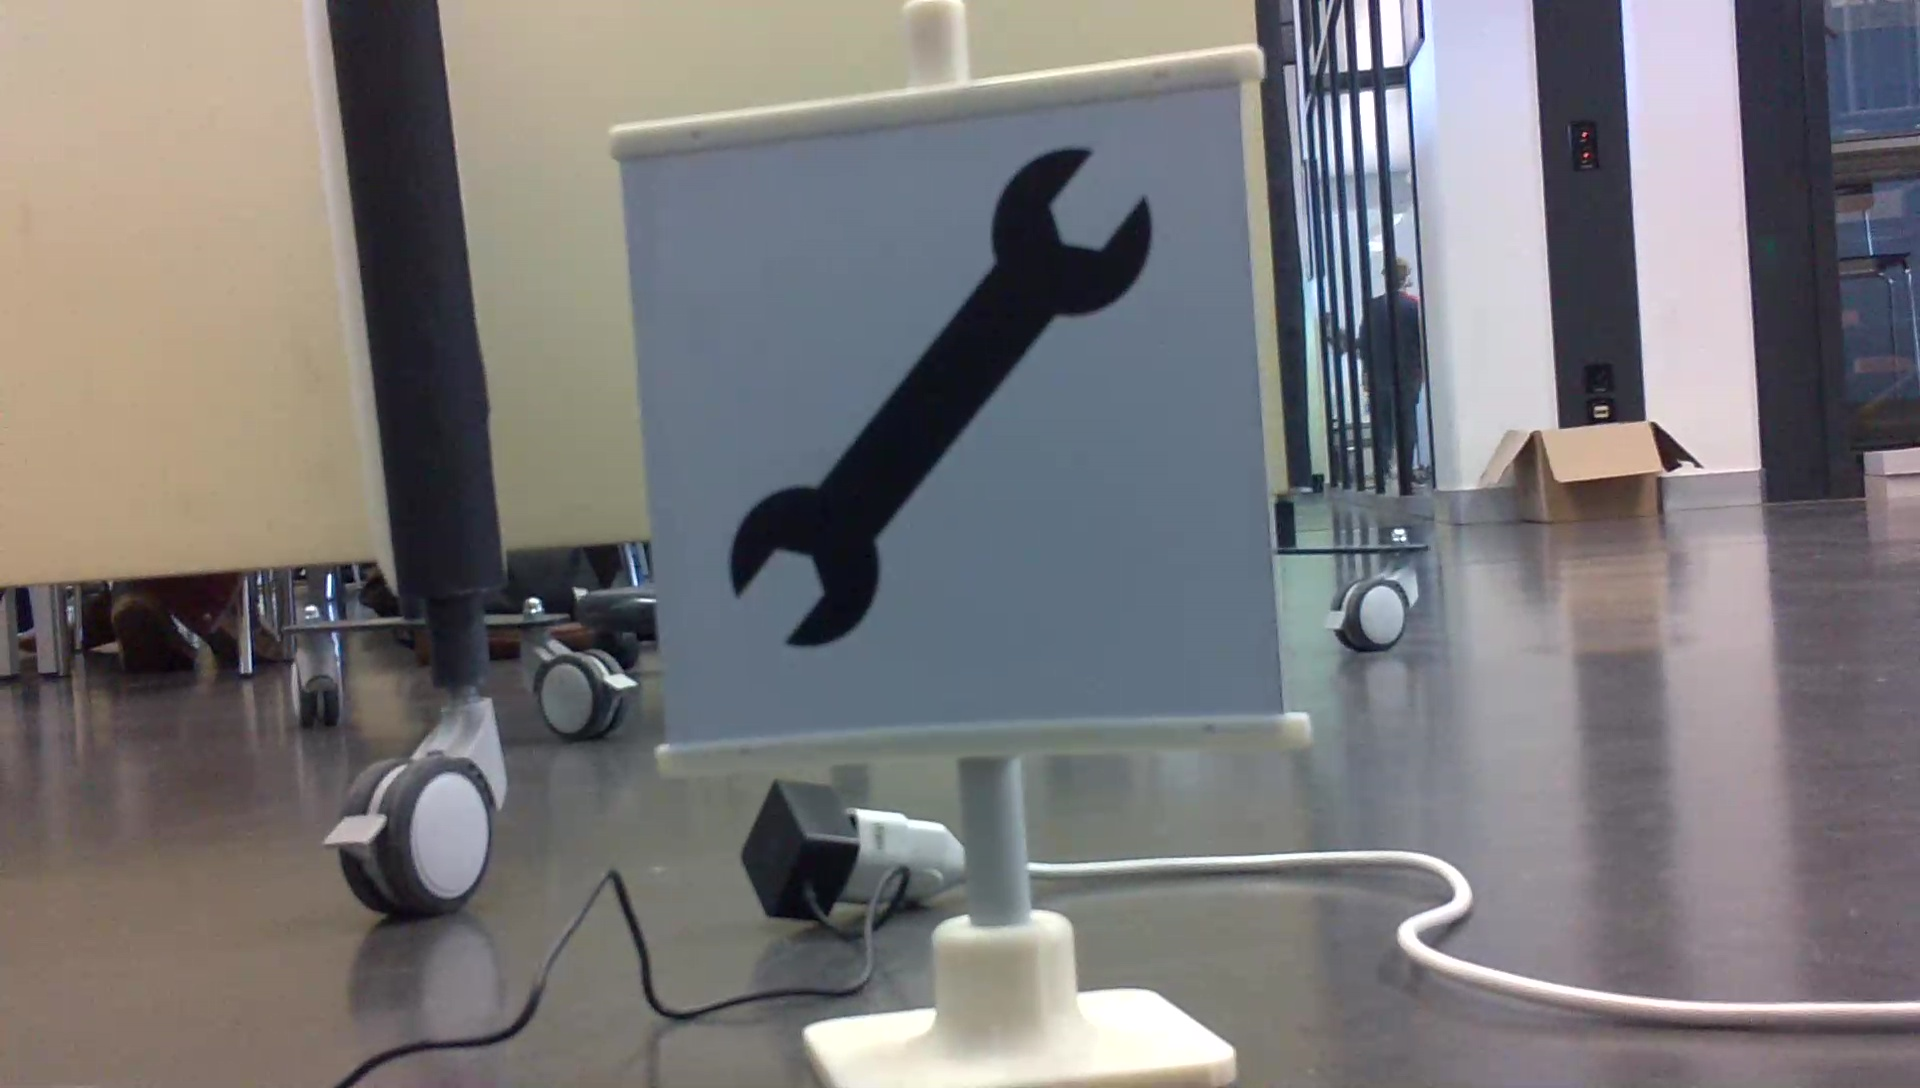wrench: (715, 138, 1164, 666)
